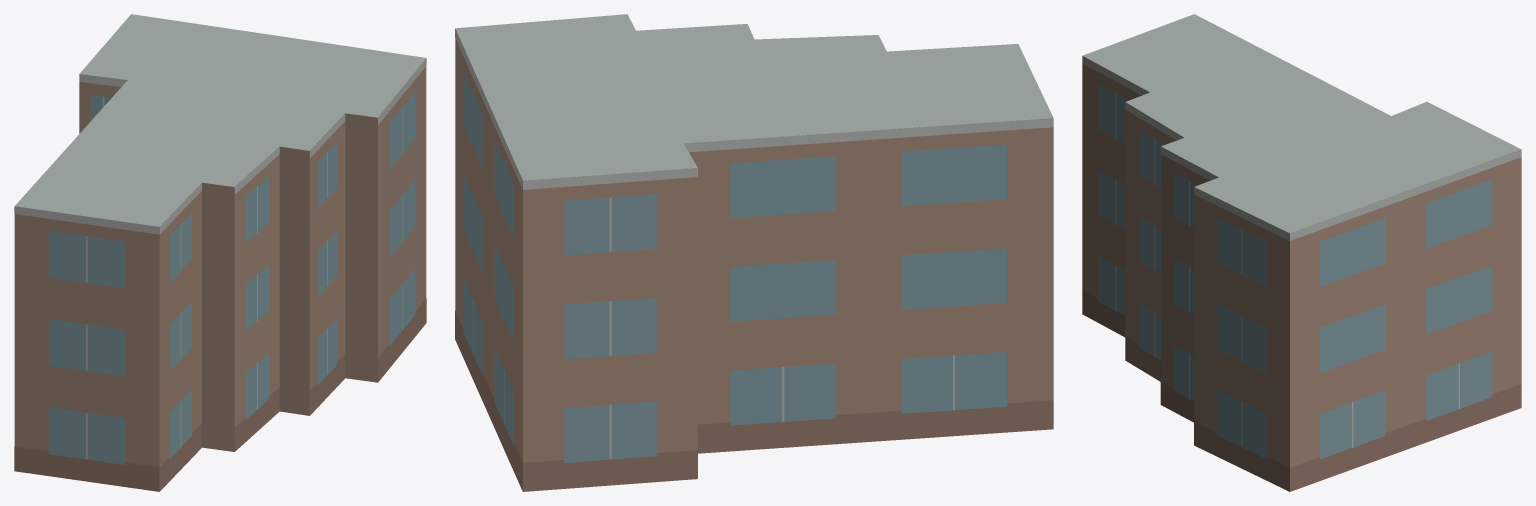
File: survey-upis-33036430.glb
3 views of the same model, side by side, from view 1: azimuth 30°, elevation 25°; view 2: azimuth 150°, elevation 25°; view 3: azimuth 270°, elevation 25° (orthographic). The views are drawn at different scales.
Visible parts, largest first — view 1: survey-upis-33036430.tmp; view 2: survey-upis-33036430.tmp; view 3: survey-upis-33036430.tmp.
Part boxes in pixels (x1,y1,x2,y2): survey-upis-33036430.tmp: (14, 14, 426, 491); survey-upis-33036430.tmp: (455, 14, 1053, 491); survey-upis-33036430.tmp: (1082, 14, 1521, 491).
Size of the model in its own units: 15.12 by 8.3 by 12.79.
